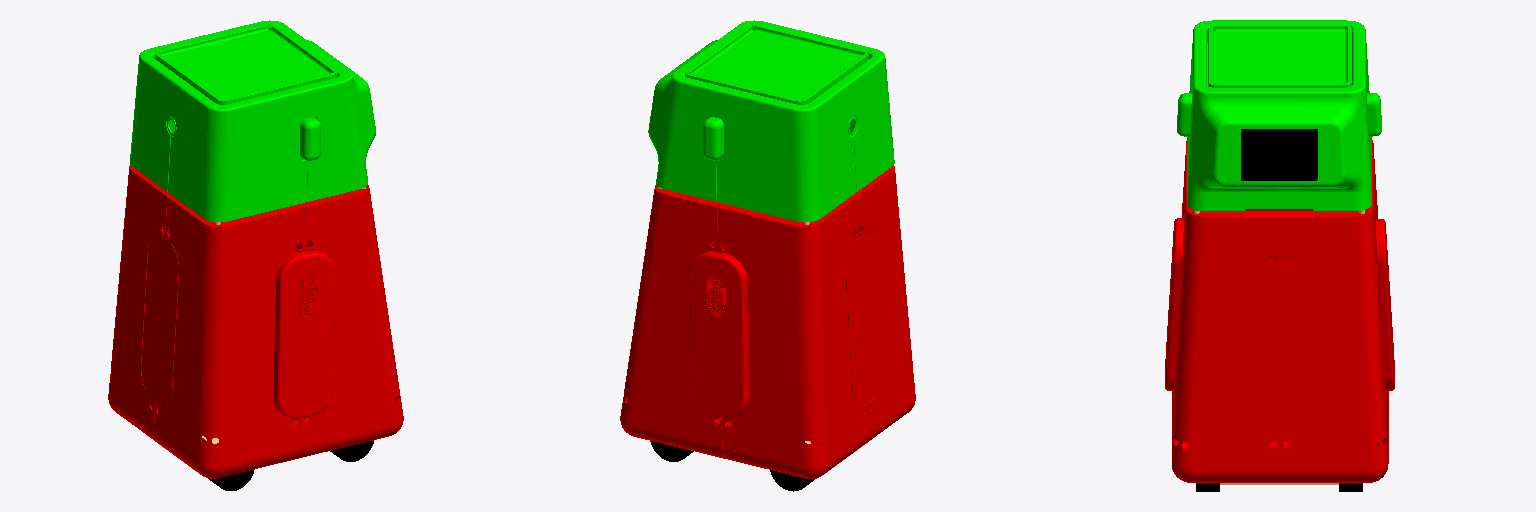
--- What the picture shows (computed from the rendered views, not written in the file) ---
3 views of the same robot in one strip: view 1: azimuth 30°, elevation 25°; view 2: azimuth 150°, elevation 25°; view 3: azimuth 270°, elevation 25° (orthographic).
Model cr2 with 17 links and 16 joints (4 continuous, 12 fixed), rooted at base_link, posed all joints at 0.
Links seen in each view (by area): view 1: body, head, tray, back_cover; view 2: body, head, tray, back_cover; view 3: body, head, tray, monitor.
Link boxes in pixels (x1,y1,x2,y2): body: (108, 165, 403, 478); head: (130, 20, 375, 221); tray: (155, 24, 337, 104); back_cover: (141, 235, 178, 404); body: (620, 165, 915, 478); head: (648, 20, 894, 221); tray: (685, 24, 868, 104); back_cover: (845, 235, 882, 404); body: (1165, 140, 1394, 482); head: (1177, 20, 1381, 210); tray: (1208, 24, 1351, 87); monitor: (1241, 129, 1317, 180).
Bounding box of the posed robot: 0.5122 × 0.4822 × 0.925 m (x, y, z).
4 mesh visuals loaded from 4 distinct referenced files (4 binary STL).

URDF robot description (cr2):
<?xml version="1.0" encoding="utf-8"?>
<!-- =================================================================================== -->
<!-- |    This document was autogenerated by xacro from cr2.urdf.xacro                 | -->
<!-- |    EDITING THIS FILE BY HAND IS NOT RECOMMENDED                                 | -->
<!-- =================================================================================== -->
<robot name="cr2">
  <!--TODO ! make it in normal '.config' file -->
  <!--GLOBAL-->
  <!-- For performance purposes we temporary remove real geometry of wheels and put simple cylinders -->
  <!--/GLOBAL-->
  <!--/MASHES-->
  <!--DEBUG-->
  <!--/DEBUG-->
  <!-- has been measured via Rviz -->
  <!--/BODY-->
  <!-- MECANUM WHEELS PLATFORM -->
  <!-- /MECANUM WHEELS -->
  <!--TODO get better head box, for now using x, y from body-->
  <!-- weight of iPad mini 4 -->
  <!--/HEAD-->
  <!--/PILLARS-->
  <!--SENSORS-->
  <!--ULTRASONIC-->
  <!--/ULTRASONIC-->
  <!--RPLIDAR-->
  <!--/RPLIDAR-->
  <!--/RANGE-->
  <!--/SENSORS-->
  <!--TODO ! make it in normal '.config' file -->
  <!--GLOBAL-->
  <!-- For performance purposes we temporary remove real geometry of wheels and put simple cylinders -->
  <!--/GLOBAL-->
  <!--/MASHES-->
  <!--DEBUG-->
  <!--/DEBUG-->
  <!-- has been measured via Rviz -->
  <!--/BODY-->
  <!-- MECANUM WHEELS PLATFORM -->
  <!-- /MECANUM WHEELS -->
  <!--TODO get better head box, for now using x, y from body-->
  <!-- weight of iPad mini 4 -->
  <!--/HEAD-->
  <!--/PILLARS-->
  <!--SENSORS-->
  <!--ULTRASONIC-->
  <!--/ULTRASONIC-->
  <!--RPLIDAR-->
  <!--/RPLIDAR-->
  <!--/RANGE-->
  <!--/SENSORS-->
  <!--TODO ! make it in normal '.config' file -->
  <!--GLOBAL-->
  <!-- For performance purposes we temporary remove real geometry of wheels and put simple cylinders -->
  <!--/GLOBAL-->
  <!--/MASHES-->
  <!--DEBUG-->
  <!--/DEBUG-->
  <!-- has been measured via Rviz -->
  <!--/BODY-->
  <!-- MECANUM WHEELS PLATFORM -->
  <!-- /MECANUM WHEELS -->
  <!--TODO get better head box, for now using x, y from body-->
  <!-- weight of iPad mini 4 -->
  <!--/HEAD-->
  <!--/PILLARS-->
  <!--SENSORS-->
  <!--ULTRASONIC-->
  <!--/ULTRASONIC-->
  <!--RPLIDAR-->
  <!--/RPLIDAR-->
  <!--/RANGE-->
  <!--/SENSORS-->
  <!--TODO ! make it in normal '.config' file -->
  <!--GLOBAL-->
  <!-- For performance purposes we temporary remove real geometry of wheels and put simple cylinders -->
  <!--/GLOBAL-->
  <!--/MASHES-->
  <!--DEBUG-->
  <!--/DEBUG-->
  <!-- has been measured via Rviz -->
  <!--/BODY-->
  <!-- MECANUM WHEELS PLATFORM -->
  <!-- /MECANUM WHEELS -->
  <!--TODO get better head box, for now using x, y from body-->
  <!-- weight of iPad mini 4 -->
  <!--/HEAD-->
  <!--/PILLARS-->
  <!--SENSORS-->
  <!--ULTRASONIC-->
  <!--/ULTRASONIC-->
  <!--RPLIDAR-->
  <!--/RPLIDAR-->
  <!--/RANGE-->
  <!--/SENSORS-->
  <!--TODO ! make it in normal '.config' file -->
  <!--GLOBAL-->
  <!-- For performance purposes we temporary remove real geometry of wheels and put simple cylinders -->
  <!--/GLOBAL-->
  <!--/MASHES-->
  <!--DEBUG-->
  <!--/DEBUG-->
  <!-- has been measured via Rviz -->
  <!--/BODY-->
  <!-- MECANUM WHEELS PLATFORM -->
  <!-- /MECANUM WHEELS -->
  <!--TODO get better head box, for now using x, y from body-->
  <!-- weight of iPad mini 4 -->
  <!--/HEAD-->
  <!--/PILLARS-->
  <!--SENSORS-->
  <!--ULTRASONIC-->
  <!--/ULTRASONIC-->
  <!--RPLIDAR-->
  <!--/RPLIDAR-->
  <!--/RANGE-->
  <!--/SENSORS-->
  <!--TODO ! make it in normal '.config' file -->
  <!--GLOBAL-->
  <!-- For performance purposes we temporary remove real geometry of wheels and put simple cylinders -->
  <!--/GLOBAL-->
  <!--/MASHES-->
  <!--DEBUG-->
  <!--/DEBUG-->
  <!-- has been measured via Rviz -->
  <!--/BODY-->
  <!-- MECANUM WHEELS PLATFORM -->
  <!-- /MECANUM WHEELS -->
  <!--TODO get better head box, for now using x, y from body-->
  <!-- weight of iPad mini 4 -->
  <!--/HEAD-->
  <!--/PILLARS-->
  <!--SENSORS-->
  <!--ULTRASONIC-->
  <!--/ULTRASONIC-->
  <!--RPLIDAR-->
  <!--/RPLIDAR-->
  <!--/RANGE-->
  <!--/SENSORS-->
  <!--TODO ! make it in normal '.config' file -->
  <!--GLOBAL-->
  <!-- For performance purposes we temporary remove real geometry of wheels and put simple cylinders -->
  <!--/GLOBAL-->
  <!--/MASHES-->
  <!--DEBUG-->
  <!--/DEBUG-->
  <!-- has been measured via Rviz -->
  <!--/BODY-->
  <!-- MECANUM WHEELS PLATFORM -->
  <!-- /MECANUM WHEELS -->
  <!--TODO get better head box, for now using x, y from body-->
  <!-- weight of iPad mini 4 -->
  <!--/HEAD-->
  <!--/PILLARS-->
  <!--SENSORS-->
  <!--ULTRASONIC-->
  <!--/ULTRASONIC-->
  <!--RPLIDAR-->
  <!--/RPLIDAR-->
  <!--/RANGE-->
  <!--/SENSORS-->
  <!--TODO ! make it in normal '.config' file -->
  <!--GLOBAL-->
  <!-- For performance purposes we temporary remove real geometry of wheels and put simple cylinders -->
  <!--/GLOBAL-->
  <!--/MASHES-->
  <!--DEBUG-->
  <!--/DEBUG-->
  <!-- has been measured via Rviz -->
  <!--/BODY-->
  <!-- MECANUM WHEELS PLATFORM -->
  <!-- /MECANUM WHEELS -->
  <!--TODO get better head box, for now using x, y from body-->
  <!-- weight of iPad mini 4 -->
  <!--/HEAD-->
  <!--/PILLARS-->
  <!--SENSORS-->
  <!--ULTRASONIC-->
  <!--/ULTRASONIC-->
  <!--RPLIDAR-->
  <!--/RPLIDAR-->
  <!--/RANGE-->
  <!--/SENSORS-->
  <!--TODO ! make it in normal '.config' file -->
  <!--GLOBAL-->
  <!-- For performance purposes we temporary remove real geometry of wheels and put simple cylinders -->
  <!--/GLOBAL-->
  <!--/MASHES-->
  <!--DEBUG-->
  <!--/DEBUG-->
  <!-- has been measured via Rviz -->
  <!--/BODY-->
  <!-- MECANUM WHEELS PLATFORM -->
  <!-- /MECANUM WHEELS -->
  <!--TODO get better head box, for now using x, y from body-->
  <!-- weight of iPad mini 4 -->
  <!--/HEAD-->
  <!--/PILLARS-->
  <!--SENSORS-->
  <!--ULTRASONIC-->
  <!--/ULTRASONIC-->
  <!--RPLIDAR-->
  <!--/RPLIDAR-->
  <!--/RANGE-->
  <!--/SENSORS-->
  <!--TODO ! make it in normal '.config' file -->
  <!--GLOBAL-->
  <!-- For performance purposes we temporary remove real geometry of wheels and put simple cylinders -->
  <!--/GLOBAL-->
  <!--/MASHES-->
  <!--DEBUG-->
  <!--/DEBUG-->
  <!-- has been measured via Rviz -->
  <!--/BODY-->
  <!-- MECANUM WHEELS PLATFORM -->
  <!-- /MECANUM WHEELS -->
  <!--TODO get better head box, for now using x, y from body-->
  <!-- weight of iPad mini 4 -->
  <!--/HEAD-->
  <!--/PILLARS-->
  <!--SENSORS-->
  <!--ULTRASONIC-->
  <!--/ULTRASONIC-->
  <!--RPLIDAR-->
  <!--/RPLIDAR-->
  <!--/RANGE-->
  <!--/SENSORS-->
  <!--TODO configure it properly, not by those magic-->
  <!--TODO ! make it in normal '.config' file -->
  <!--GLOBAL-->
  <!-- For performance purposes we temporary remove real geometry of wheels and put simple cylinders -->
  <!--/GLOBAL-->
  <!--/MASHES-->
  <!--DEBUG-->
  <!--/DEBUG-->
  <!-- has been measured via Rviz -->
  <!--/BODY-->
  <!-- MECANUM WHEELS PLATFORM -->
  <!-- /MECANUM WHEELS -->
  <!--TODO get better head box, for now using x, y from body-->
  <!-- weight of iPad mini 4 -->
  <!--/HEAD-->
  <!--/PILLARS-->
  <!--SENSORS-->
  <!--ULTRASONIC-->
  <!--/ULTRASONIC-->
  <!--RPLIDAR-->
  <!--/RPLIDAR-->
  <!--/RANGE-->
  <!--/SENSORS-->
  <!--TODO ! make it in normal '.config' file -->
  <!--GLOBAL-->
  <!-- For performance purposes we temporary remove real geometry of wheels and put simple cylinders -->
  <!--/GLOBAL-->
  <!--/MASHES-->
  <!--DEBUG-->
  <!--/DEBUG-->
  <!-- has been measured via Rviz -->
  <!--/BODY-->
  <!-- MECANUM WHEELS PLATFORM -->
  <!-- /MECANUM WHEELS -->
  <!--TODO get better head box, for now using x, y from body-->
  <!-- weight of iPad mini 4 -->
  <!--/HEAD-->
  <!--/PILLARS-->
  <!--SENSORS-->
  <!--ULTRASONIC-->
  <!--/ULTRASONIC-->
  <!--RPLIDAR-->
  <!--/RPLIDAR-->
  <!--/RANGE-->
  <!--/SENSORS-->
  <link name="base_link"/>
  <!--it is intended to be empty-->
  <joint name="base_link_joint" type="fixed">
    <origin rpy="0 0 0" xyz="0 0 0"/>
    <parent link="base_link"/>
    <child link="base_platform"/>
  </joint>
  <link name="base_platform">
    <visual>
      <origin rpy="1.57079632679 0 1.57079632679" xyz="0 0 0"/>
      <geometry>
        <box size="0.25 0.05 0.38"/>
      </geometry>
      <material name="navajo_white">
        <color rgba="1.0 0.87 0.68 1.0"/>
      </material>
      <!--TODO change it (not crucial), because it is being extracted to definition inplace-->
    </visual>
    <collision>
      <origin rpy="1.57079632679 0 1.57079632679" xyz="0 0 0"/>
      <geometry>
        <box size="0.25 0.05 0.38"/>
      </geometry>
    </collision>
    <inertial>
      <origin rpy="1.57079632679 0 1.57079632679" xyz="0 0 0"/>
      <mass value="10"/>
      <inertia ixx="0.122416666667" ixy="0.0" ixz="0.0" iyy="0.172416666667" iyz="0.0" izz="0.0541666666667"/>
    </inertial>
  </link>
  <link name="rear_left_wheel_link">
    <visual>
      <origin rpy="1.57075 0 0" xyz="0 0 0"/>
      <geometry>
        <cylinder length="0.05" radius="0.05"/>
      </geometry>
      <material name="black"/>
    </visual>
    <collision>
      <origin rpy="1.57075 0 0" xyz="0 0 0"/>
      <geometry>
        <cylinder length="0.05" radius="0.05"/>
      </geometry>
    </collision>
    <inertial>
      <origin rpy="0 0 0" xyz="0 0 0"/>
      <mass value="2.3"/>
      <inertia ixx="3.3212e-3" ixy="0" ixz="0" iyy="6.6424e-3" iyz="0" izz="3.3212e-3"/>
    </inertial>
  </link>
  <joint name="rear_left_wheel" type="continuous">
    <parent link="base_platform"/>
    <child link="rear_left_wheel_link"/>
    <origin rpy="0 0 0" xyz="-0.14                      0.15                       0"/>
    <axis xyz="0 1 0"/>
  </joint>
  <transmission name="rear_wheel_trans">
    <type>transmission_interface/SimpleTransmission</type>
    <joint name="rear_left_wheel">
      <hardwareInterface>hardware_interface/VelocityJointInterface</hardwareInterface>
    </joint>
    <actuator name="rear_left_actuator">
      <mechanicalReduction>60</mechanicalReduction>
      <motorTorqueConstant>4.4</motorTorqueConstant>
    </actuator>
  </transmission>
  <link name="rear_right_wheel_link">
    <visual>
      <origin rpy="1.57075 0 0" xyz="0 0 0"/>
      <geometry>
        <cylinder length="0.05" radius="0.05"/>
      </geometry>
      <material name="black"/>
    </visual>
    <collision>
      <origin rpy="1.57075 0 0" xyz="0 0 0"/>
      <geometry>
        <cylinder length="0.05" radius="0.05"/>
      </geometry>
    </collision>
    <inertial>
      <origin rpy="0 0 0" xyz="0 0 0"/>
      <mass value="2.3"/>
      <inertia ixx="3.3212e-3" ixy="0" ixz="0" iyy="6.6424e-3" iyz="0" izz="3.3212e-3"/>
    </inertial>
  </link>
  <joint name="rear_right_wheel" type="continuous">
    <parent link="base_platform"/>
    <child link="rear_right_wheel_link"/>
    <origin rpy="0 0 0" xyz="-0.14                      -0.15                      0"/>
    <axis xyz="0 1 0"/>
  </joint>
  <transmission name="rear_wheel_trans">
    <type>transmission_interface/SimpleTransmission</type>
    <joint name="rear_right_wheel">
      <hardwareInterface>hardware_interface/VelocityJointInterface</hardwareInterface>
    </joint>
    <actuator name="rear_right_actuator">
      <mechanicalReduction>60</mechanicalReduction>
      <motorTorqueConstant>4.4</motorTorqueConstant>
    </actuator>
  </transmission>
  <link name="front_left_wheel_link">
    <visual>
      <origin rpy="1.57075 0 0" xyz="0 0 0"/>
      <geometry>
        <cylinder length="0.05" radius="0.05"/>
      </geometry>
      <material name="black"/>
    </visual>
    <collision>
      <origin rpy="1.57075 0 0" xyz="0 0 0"/>
      <geometry>
        <cylinder length="0.05" radius="0.05"/>
      </geometry>
    </collision>
    <inertial>
      <origin rpy="0 0 0" xyz="0 0 0"/>
      <mass value="2.3"/>
      <inertia ixx="3.3212e-3" ixy="0" ixz="0" iyy="6.6424e-3" iyz="0" izz="3.3212e-3"/>
    </inertial>
  </link>
  <joint name="front_left_wheel" type="continuous">
    <parent link="base_platform"/>
    <child link="front_left_wheel_link"/>
    <origin rpy="0 0 0" xyz="0.16                      0.15                       0"/>
    <axis xyz="0 1 0"/>
  </joint>
  <transmission name="front_wheel_trans">
    <type>transmission_interface/SimpleTransmission</type>
    <joint name="front_left_wheel">
      <hardwareInterface>hardware_interface/VelocityJointInterface</hardwareInterface>
    </joint>
    <actuator name="front_left_actuator">
      <mechanicalReduction>60</mechanicalReduction>
      <motorTorqueConstant>4.4</motorTorqueConstant>
    </actuator>
  </transmission>
  <link name="front_right_wheel_link">
    <visual>
      <origin rpy="1.57075 0 0" xyz="0 0 0"/>
      <geometry>
        <cylinder length="0.05" radius="0.05"/>
      </geometry>
      <material name="black"/>
    </visual>
    <collision>
      <origin rpy="1.57075 0 0" xyz="0 0 0"/>
      <geometry>
        <cylinder length="0.05" radius="0.05"/>
      </geometry>
    </collision>
    <inertial>
      <origin rpy="0 0 0" xyz="0 0 0"/>
      <mass value="2.3"/>
      <inertia ixx="3.3212e-3" ixy="0" ixz="0" iyy="6.6424e-3" iyz="0" izz="3.3212e-3"/>
    </inertial>
  </link>
  <joint name="front_right_wheel" type="continuous">
    <parent link="base_platform"/>
    <child link="front_right_wheel_link"/>
    <origin rpy="0 0 0" xyz="0.16                      -0.15                      0"/>
    <axis xyz="0 1 0"/>
  </joint>
  <transmission name="front_wheel_trans">
    <type>transmission_interface/SimpleTransmission</type>
    <joint name="front_right_wheel">
      <hardwareInterface>hardware_interface/VelocityJointInterface</hardwareInterface>
    </joint>
    <actuator name="front_right_actuator">
      <mechanicalReduction>60</mechanicalReduction>
      <motorTorqueConstant>4.4</motorTorqueConstant>
    </actuator>
  </transmission>
  <joint name="body_link_joint" type="fixed">
    <parent link="base_platform"/>
    <child link="body"/>
  </joint>
  <link name="body">
    <visual>
      <geometry>
        <mesh filename="package://cr2_description/meshes/body.stl" scale="0.001 0.001 0.001"/>
      </geometry>
      <material name="red">
        <color rgba="1.0 0.0 0.0 1.0"/>
      </material>
      <origin rpy="1.57079632679 0 3.14159265359" xyz="0.27                      -0.24                      0.0"/>
      <!--rpy="${pi/2} 0 ${pi}"/>-->
    </visual>
    <collision>
      <geometry>
        <box size="0.486 0.6 0.525"/>
      </geometry>
      <origin rpy="1.57079632679 0 1.57079632679" xyz="0.02                      0                      0.3"/>
      <!--rpy="${pi/2} 0 ${pi}"/>-->
    </collision>
    <inertial>
      <origin rpy="1.57079632679 0 1.57079632679" xyz="0.02                      0                      0.3"/>
      <mass value="3"/>
      <inertia ixx="0.15890625" ixy="0.0" ixz="0.0" iyy="0.12795525" iyz="0.0" izz="0.149049"/>
    </inertial>
  </link>
  <link name="back_cover">
    <visual>
      <origin rpy="0                      1.57079632679                      0.06092665" xyz="0.515                              0                              0.469"/>
      <geometry>
        <mesh filename="package://cr2_description/meshes/back_cover.stl" scale="0.001 0.001 0.001"/>
      </geometry>
      <material name="red">
        <color rgba="1.0 0.0 0.0 1.0"/>
      </material>
    </visual>
    <inertial>
      <origin rpy="0 0 0" xyz="0 0 0"/>
      <mass value="0"/>
      <inertia ixx="0.0" ixy="0.0" ixz="0.0" iyy="0.0" iyz="0.0" izz="0.0"/>
    </inertial>
  </link>
  <joint name="back_cover_joint" type="fixed">
    <origin rpy="1.57079632679 0 3.14159265359" xyz="0.27                      -0.24                      0.0"/>
    <!--rpy="${pi/2} 0 ${pi}"/>-->
    <parent link="body"/>
    <child link="back_cover"/>
  </joint>
  <joint name="head_link_joint" type="fixed">
    <origin rpy="0                          0                          0 " xyz="0                          0                          0"/>
    <parent link="body"/>
    <child link="head"/>
  </joint>
  <link name="head">
    <visual>
      <origin rpy="1.57079632679 0 3.14159265359" xyz="0.24                            -0.215                            0.02"/>
      <geometry>
        <mesh filename="package://cr2_description/meshes/head.stl" scale="0.001 0.001 0.001"/>
      </geometry>
      <material name="green">
        <color rgba="0.0 1.0 0.0 1.0"/>
      </material>
    </visual>
    <collision>
      <origin rpy="1.57079632679 0 1.57079632679" xyz="0                              0                              0.75"/>
      <geometry>
        <box size="0.486 0.26 0.525"/>
      </geometry>
    </collision>
    <inertial>
      <origin rpy="1.57079632679 0 1.57079632679" xyz="0                              0                              0.75"/>
      <mass value="1"/>
      <inertia ixx="0.0286020833333" ixy="0.0" ixz="0.0" iyy="0.04265175" iyz="0.0" izz="0.0253163333333"/>
    </inertial>
  </link>
  <link name="tray">
    <visual>
      <origin rpy="0 0 0" xyz="0.2325                      0.105                      0.218"/>
      <geometry>
        <mesh filename="package://cr2_description/meshes/tray.stl" scale="0.001 0.001 0.001"/>
      </geometry>
      <material name="green">
        <color rgba="0.0 1.0 0.0 1.0"/>
      </material>
    </visual>
    <inertial>
      <origin rpy="0 0 0" xyz="0 0 0"/>
      <mass value="0.1"/>
      <inertia ixx="0.00168750833333" ixy="0.0" ixz="0.0" iyy="0.00336001666667" iyz="0.0" izz="0.00168750833333"/>
    </inertial>
  </link>
  <joint name="tray_joint" type="fixed">
    <origin rpy="1.57079632679 0 1.57079632679" xyz="0                              0                              0.75"/>
    <parent link="head"/>
    <child link="tray"/>
  </joint>
  <link name="monitor">
    <visual>
      <origin rpy="1.57079632679                      -0.11307335                      -1.57079632679" xyz="0                      0.01                      0.228"/>
      <geometry>
        <box size="0.13 0.001 0.16"/>
      </geometry>
      <material name="black">
        <color rgba="0.0 0.0 0.0 1.0"/>
      </material>
    </visual>
    <inertial>
      <origin rpy="0 0 0" xyz="0 0 0"/>
      <mass value="0.295"/>
      <inertia ixx="0.000629357916667" ixy="0.0" ixz="0.0" iyy="0.00104479166667" iyz="0.0" izz="0.000415482916667"/>
    </inertial>
  </link>
  <joint name="monitor_joint" type="fixed">
    <origin rpy="1.57079632679 0 1.57079632679" xyz="0                              0                              0.75"/>
    <parent link="head"/>
    <child link="monitor"/>
  </joint>
  <link name="pillar_FRONT_RIGHT_link">
    <visual>
      <geometry>
        <cylinder length="0.02" radius="0.006"/>
      </geometry>
      <material name="navajo_white">
        <color rgba="1.0 0.87 0.68 1.0"/>
      </material>
    </visual>
    <collision>
      <geometry>
        <cylinder length="0.02" radius="0.006"/>
      </geometry>
    </collision>
    <inertial>
      <mass value="0.001"/>
      <origin xyz="0 0 0"/>
      <inertia ixx="4.23333333333e-08" ixy="0.0" ixz="0.0" iyy="4.23333333333e-08" iyz="0.0" izz="1.8e-08"/>
    </inertial>
  </link>
  <joint name="pillar_FRONT_RIGHT_joint" type="fixed">
    <origin rpy="0 0 0" xyz="0.1825 -0.173 0.6"/>
    <parent link="body"/>
    <child link="pillar_FRONT_RIGHT_link"/>
  </joint>
  <link name="pillar_FRONT_LEFT_link">
    <visual>
      <geometry>
        <cylinder length="0.02" radius="0.006"/>
      </geometry>
      <material name="navajo_white">
        <color rgba="1.0 0.87 0.68 1.0"/>
      </material>
    </visual>
    <collision>
      <geometry>
        <cylinder length="0.02" radius="0.006"/>
      </geometry>
    </collision>
    <inertial>
      <mass value="0.001"/>
      <origin xyz="0 0 0"/>
      <inertia ixx="4.23333333333e-08" ixy="0.0" ixz="0.0" iyy="4.23333333333e-08" iyz="0.0" izz="1.8e-08"/>
    </inertial>
  </link>
  <joint name="pillar_FRONT_LEFT_joint" type="fixed">
    <origin rpy="0 0 0" xyz="0.1825 0.173 0.6"/>
    <parent link="body"/>
    <child link="pillar_FRONT_LEFT_link"/>
  </joint>
  <link name="pillar_REAR_RIGHT_link">
    <visual>
      <geometry>
        <cylinder length="0.02" radius="0.006"/>
      </geometry>
      <material name="navajo_white">
        <color rgba="1.0 0.87 0.68 1.0"/>
      </material>
    </visual>
    <collision>
      <geometry>
        <cylinder length="0.02" radius="0.006"/>
      </geometry>
    </collision>
    <inertial>
      <mass value="0.001"/>
      <origin xyz="0 0 0"/>
      <inertia ixx="4.23333333333e-08" ixy="0.0" ixz="0.0" iyy="4.23333333333e-08" iyz="0.0" izz="1.8e-08"/>
    </inertial>
  </link>
  <joint name="pillar_REAR_RIGHT_joint" type="fixed">
    <origin rpy="0 0 0" xyz="-0.1825 -0.173 0.6"/>
    <parent link="body"/>
    <child link="pillar_REAR_RIGHT_link"/>
  </joint>
  <link name="pillar_REAR_LEFT_link">
    <visual>
      <geometry>
        <cylinder length="0.02" radius="0.006"/>
      </geometry>
      <material name="navajo_white">
        <color rgba="1.0 0.87 0.68 1.0"/>
      </material>
    </visual>
    <collision>
      <geometry>
        <cylinder length="0.02" radius="0.006"/>
      </geometry>
    </collision>
    <inertial>
      <mass value="0.001"/>
      <origin xyz="0 0 0"/>
      <inertia ixx="4.23333333333e-08" ixy="0.0" ixz="0.0" iyy="4.23333333333e-08" iyz="0.0" izz="1.8e-08"/>
    </inertial>
  </link>
  <joint name="pillar_REAR_LEFT_joint" type="fixed">
    <origin rpy="0 0 0" xyz="-0.1825 0.173 0.6"/>
    <parent link="body"/>
    <child link="pillar_REAR_LEFT_link"/>
  </joint>
  <link name="laser_link">
    <visual>
      <geometry>
        <cylinder length="0.041" radius="0.038"/>
      </geometry>
      <material name="navajo_white">
        <color rgba="1.0 0.87 0.68 1.0"/>
      </material>
    </visual>
    <collision>
      <geometry>
        <cylinder length="0.041" radius="0.038"/>
      </geometry>
    </collision>
    <inertial>
      <mass value="0.019"/>
      <origin xyz="0 0 0"/>
      <inertia ixx="9.52058333333e-06" ixy="0.0" ixz="0.0" iyy="9.52058333333e-06" iyz="0.0" izz="1.3718e-05"/>
    </inertial>
  </link>
  <joint name="laser_base_joint" type="fixed">
    <origin rpy="0 0 0" xyz="0.0                      0.0                      0.59"/>
    <parent link="head"/>
    <child link="laser_link"/>
  </joint>
  <link name="laser_oscillator">
    <visual>
      <geometry>
        <cylinder length="0.001" radius="0.038"/>
      </geometry>
      <material name="blue">
        <color rgba="0.0 0.0 1.0 1.0"/>
      </material>
    </visual>
    <collision>
      <geometry>
        <cylinder length="0.001" radius="0.038"/>
      </geometry>
    </collision>
    <inertial>
      <mass value="0.001"/>
      <origin xyz="0 0 0"/>
      <inertia ixx="3.61083333333e-07" ixy="0.0" ixz="0.0" iyy="3.61083333333e-07" iyz="0.0" izz="7.22e-07"/>
    </inertial>
  </link>
  <joint name="laser_oscillator_joint" type="fixed">
    <origin rpy="0 0 3.14159265359" xyz="0 0 0.0155"/>
    <parent link="laser_link"/>
    <child link="laser_oscillator"/>
  </joint>
  <gazebo reference="laser_oscillator">
    <material>Gazebo/Green</material>
    <sensor name="laser" type="ray">
      <pose>0 0 0 0 0 0</pose>
      <visualize>false</visualize>
      <update_rate>40</update_rate>
      <ray>
        <scan>
          <horizontal>
            <!--TODO: figureout exact samples for RPLIDAR A2-->
            <samples>1081</samples>
            <resolution>1</resolution>
            <min_angle>0</min_angle>
            <max_angle>6.283185</max_angle>
          </horizontal>
        </scan>
        <range>
          <!--TODO: figureout exact min/max for RPLIDAR A2-->
          <min>0.3</min>
          <max>5.0</max>
          <!--for this dist is configured navigator-->
          <resolution>0.01</resolution>
        </range>
        <noise>
          <type>gaussian</type>
          <mean>0.0</mean>
          <stddev>0.01</stddev>
        </noise>
      </ray>
      <plugin filename="libgazebo_ros_laser.so" name="gazebo_ros_rplidar_controller">
        <topicName>front/scan</topicName>
        <frameName>laser_oscillator</frameName>
        <!--<frameName>front_laser</frameName>-->
      </plugin>
    </sensor>
  </gazebo>
  <!---->
  <!---->
  <!---->
  <!--ULTRASONIC-->
  <!--<xacro:ultrasonic parent_link_name="body" position="FRONT_TOP"              roll="0"              x="0.1"   y="${ultrasonic_top_margin}            " z="0.361"/>-->
  <!--<xacro:ultrasonic parent_link_name="body" position="FRONT_BOTTOM"           roll="0"              x="0.025" y="${ultrasonic_bottom_margin}         " z="0.361"/>-->
  <!--<xacro:ultrasonic parent_link_name="body" position="FRONT_BOTTOM_RIGHT"     roll="${pi + pi/1.3}" x="0.033" y="${ultrasonic_bottom_margin - 0.003} " z="0.054"/>-->
  <!--<xacro:ultrasonic parent_link_name="body" position="FRONT_BOTTOM_LEFT"      roll="${pi/4}"        x="0.035" y="${ultrasonic_bottom_margin}         " z="0.67" />-->
  <!--<xacro:ultrasonic parent_link_name="body" position="RIGHT_TOP"              roll="${pi + pi/2}"   x="0.374" y="${ultrasonic_top_margin}            " z="0.075"/>-->
  <!--<xacro:ultrasonic parent_link_name="body" position="RIGHT_BOTTOM"           roll="${pi + pi/2}"   x="0.407" y="${ultrasonic_bottom_margin  - 0.002}" z="0.035"/>-->
  <!--<xacro:ultrasonic parent_link_name="body" position="RIGHT_BOTTOM_SIDE"      roll="${pi/1.3}"      x="0.735" y="${ultrasonic_bottom_margin - 0.002} " z="0.675"/>-->
  <!--<xacro:ultrasonic parent_link_name="body" position="SIDE_TOP"               roll="${pi}"          x="0.71"  y="${ultrasonic_top_margin + 0.012}    " z="0.36" />-->
  <!--<xacro:ultrasonic parent_link_name="body" position="SIDE_BOTTOM"            roll="${pi}"          x="0.75"  y="${ultrasonic_bottom_margin}         " z="0.363"/>-->
  <!--<xacro:ultrasonic parent_link_name="body" position="SIDE_BOTTOM_LEFT"       roll="${pi + pi/4}"   x="0.732" y="${ultrasonic_bottom_margin + 0.006} " z="0.055"/>-->
  <!--<xacro:ultrasonic parent_link_name="body" position="LEFT_TOP"               roll="${pi/2}"        x="0.372" y="${ultrasonic_top_margin}            " z="0.65" />-->
  <!--<xacro:ultrasonic parent_link_name="body" position="LEFT_BOTTOM"            roll="${pi/2}"        x="0.407" y="${ultrasonic_bottom_margin}         " z="0.685"/>-->
  <!---->
  <!---->
  <!---->
  <!--RANGE SENSOR-->
  <!--<xacro:range_sensor parent_link_name="head" position="FRONT_FIRST"          roll="0"              x="0.13"  y="${range_sensor_margin}         " z="0.5"/>-->
  <!--<xacro:range_sensor parent_link_name="head" position="FRONT_SECOND"         roll="0"              x="0.13"  y="${range_sensor_margin}         " z="0.325"/>-->
  <!--<xacro:range_sensor parent_link_name="head" position="FRONT_THIRD"          roll="0"              x="0.13"  y="${range_sensor_margin}         " z="0.15"/>-->
  <!--<xacro:range_sensor parent_link_name="head" position="RIGHT_FIRST"          roll="${pi/2}"        x="0.2"   y="${range_sensor_margin}         " z="0.075"/>-->
  <!--<xacro:range_sensor parent_link_name="head" position="RIGHT_SECOND"         roll="${pi/2}"        x="0.38"  y="${range_sensor_margin}         " z="0.075"/>-->
  <!--<xacro:range_sensor parent_link_name="head" position="RIGHT_THIRD"          roll="${pi/2}"        x="0.55"  y="${range_sensor_margin}         " z="0.075"/>-->
  <!--<xacro:range_sensor parent_link_name="head" position="SIDE_FIRST"           roll="0"              x="0.63"  y="${range_sensor_margin}         " z="0.5"/>-->
  <!--<xacro:range_sensor parent_link_name="head" position="SIDE_SECOND"          roll="0"              x="0.63"  y="${range_sensor_margin}         " z="0.325"/>-->
  <!--<xacro:range_sensor parent_link_name="head" position="SIDE_THIRD"           roll="0"              x="0.63"  y="${range_sensor_margin}         " z="0.15"/>-->
  <!--<xacro:range_sensor parent_link_name="head" position="LEFT_FIRST"           roll="${pi/2}"        x="0.2"   y="${range_sensor_margin}         " z="0.572"/>-->
  <!--<xacro:range_sensor parent_link_name="head" position="LEFT_SECOND"          roll="${pi/2}"        x="0.36"  y="${range_sensor_margin}         " z="0.572"/>-->
  <!--<xacro:range_sensor parent_link_name="head" position="LEFT_THIRD"           roll="${pi/2}"        x="0.55"  y="${range_sensor_margin}         " z="0.572"/>-->
  <!---->
  <!---->
  <gazebo>
    <plugin filename="libgazebo_ros_control.so" name="gazebo_ros_control">
      <robotNamespace>/</robotNamespace>
      <legacyModeNS>true</legacyModeNS>
    </plugin>
    <plugin filename="libmove_object_plugin.so" name="sample"/>
    <plugin filename="./libridgeback_ros_force_based_move.so" name="ridgeback_ros_force_based_move">
      <robotNamespace>/</robotNamespace>
      <commandTopic>cmd_vel</commandTopic>
      <odometryTopic>odom</odometryTopic>
      <odometryFrame>odom</odometryFrame>
      <odometryRate>25.0</odometryRate>
      <robotBaseFrame>base_link</robotBaseFrame>
      <cmdVelTimeOut>0.25</cmdVelTimeOut>
      <!-- Don't publish a transform: the controller does it. -->
      <publishOdometryTf>0.0</publishOdometryTf>
      <yaw_velocity_p_gain>500.0</yaw_velocity_p_gain>
      <x_velocity_p_gain>10000.0</x_velocity_p_gain>
      <y_velocity_p_gain>10000.0</y_velocity_p_gain>
    </plugin>
    <!--<plugin name="imu_controller" filename="libhector_gazebo_ros_imu.so">-->
    <!--<robotNamespace>/</robotNamespace>-->
    <!--<updateRate>50.0</updateRate>-->
    <!--<bodyName>imu_link</bodyName>-->
    <!--<topicName>imu/data</topicName>-->
    <!--<accelDrift>0.005 0.005 0.005</accelDrift>-->
    <!--<accelGaussianNoise>0.005 0.005 0.005</accelGaussianNoise>-->
    <!--<rateDrift>0.00005 0.00005 0.00005</rateDrift>-->
    <!--<rateGaussianNoise>0.00005 0.00005 0.00005</rateGaussianNoise>-->
    <!--<headingDrift>0.005</headingDrift>-->
    <!--<headingGaussianNoise>0.005</headingGaussianNoise>-->
    <!--</plugin>-->
    <!--TODO ALLSO BAD EGG - need more efforts-->
    <!--<plugin name="gazebo_ros_joint_state_publisher" filename="libgazebo_ros_joint_state_publisher.so">-->
    <!--<jointName>wheel_FL_link</jointName>-->
    <!--<robotNamespace>/</robotNamespace>-->
    <!--<updateRate>50.0</updateRate>-->
    <!--</plugin>-->
  </gazebo>
  <!-- ///////////////////////-->
  <!-- Mechanum wheels chassis-->
  <!-- ///////////////////////-->
  <gazebo reference="base_link">
    <!--<mu1 value="1.0"/>-->
    <!--<mu2 value="1.0"/>-->
    <!--<kp value="10000000.0"/>-->
    <!--<kd value="1.0"/>-->
    <material>Gazebo/White</material>
    <gravity>true</gravity>
  </gazebo>
  <!--<gazebo reference="FL_wheel_link">-->
  <!--<mu1 value="0.0"/>-->
  <!--<mu2 value="0.0"/>-->
  <!--<kp value="10000000.0"/>-->
  <!--<kd value="1.0"/>-->
  <!--<material>Gazebo/Blue</material>-->
  <!--</gazebo>-->
  <!--<gazebo reference="FR_wheel_link">-->
  <!--<mu1 value="0.0"/>-->
  <!--<mu2 value="0.0"/>-->
  <!--<kp value="10000000.0"/>-->
  <!--<kd value="1.0"/>-->
  <!--<material>Gazebo/Blue</material>-->
  <!--</gazebo>-->
  <!--<gazebo reference="RL_wheel_link">-->
  <!--<mu1 value="0.0"/>-->
  <!--<mu2 value="0.0"/>-->
  <!--<kp value="10000000.0"/>-->
  <!--<kd value="1.0"/>-->
  <!--<material>Gazebo/Blue</material>-->
  <!--</gazebo>-->
  <!--<gazebo reference="RR_wheel_link">-->
  <!--<mu1 value="0.0"/>-->
  <!--<mu2 value="0.0"/>-->
  <!--<kp value="10000000.0"/>-->
  <!--<kd value="1.0"/>-->
  <!--<material>Gazebo/Blue</material>-->
  <!--</gazebo>-->
  <gazebo reference="rear_left_wheel_link">
    <mu1 value="0.0"/>
    <mu2 value="0.0"/>
    <kp value="10000000.0"/>
    <kd value="1.0"/>
    <material>Gazebo/Blue</material>
  </gazebo>
  <gazebo reference="rear_right_wheel_link">
    <mu1 value="0.0"/>
    <mu2 value="0.0"/>
    <kp value="10000000.0"/>
    <kd value="1.0"/>
    <material>Gazebo/Blue</material>
  </gazebo>
  <gazebo reference="front_left_wheel_link">
    <mu1 value="0.0"/>
    <mu2 value="0.0"/>
    <kp value="10000000.0"/>
    <kd value="1.0"/>
    <material>Gazebo/Blue</material>
  </gazebo>
  <gazebo reference="front_right_wheel_link">
    <mu1 value="0.0"/>
    <mu2 value="0.0"/>
    <kp value="10000000.0"/>
    <kd value="1.0"/>
    <material>Gazebo/Blue</material>
  </gazebo>
  <gazebo reference="motor_holder_base_RL_joint">
    <mu1 value="1.0"/>
    <mu2 value="1.0"/>
    <kp value="10000000.0"/>
    <kd value="1.0"/>
    <material>Gazebo/Red</material>
  </gazebo>
  <gazebo reference="motor_holder_RL">
    <mu1 value="1.0"/>
    <mu2 value="1.0"/>
    <kp value="10000000.0"/>
    <kd value="1.0"/>
    <material>Gazebo/Red</material>
  </gazebo>
  <gazebo reference="wheel_motor_RL_joint">
    <mu1 value="1.0"/>
    <mu2 value="1.0"/>
    <kp value="10000000.0"/>
    <kd value="1.0"/>
    <material>Gazebo/Red</material>
  </gazebo>
  <!--<gazebo reference="motor_holder_base_RL_joint">-->
  <!--<mu1 value="1.0"/>-->
  <!--<mu2 value="1.0"/>-->
  <!--<kp value="10000000.0"/>-->
  <!--<kd value="1.0"/>-->
  <!--<material>Gazebo/Red</material>-->
  <!--</gazebo>-->
  <!--<gazebo reference="motor_RR_holder">-->
  <!--<mu1 value="1.0"/>-->
  <!--<mu2 value="1.0"/>-->
  <!--<kp value="10000000.0"/>-->
  <!--<kd value="1.0"/>-->
  <!--<material>Gazebo/Red</material>-->
  <!--</gazebo>-->
  <!--<gazebo reference="motor_RR_holder">-->
  <!--<mu1 value="1.0"/>-->
  <!--<mu2 value="1.0"/>-->
  <!--<kp value="10000000.0"/>-->
  <!--<kd value="1.0"/>-->
  <!--<material>Gazebo/Red</material>-->
  <!--</gazebo>-->
  <!--<gazebo reference="motor_RR_holder">-->
  <!--<mu1 value="1.0"/>-->
  <!--<mu2 value="1.0"/>-->
  <!--<kp value="10000000.0"/>-->
  <!--<kd value="1.0"/>-->
  <!--<material>Gazebo/Red</material>-->
  <!--</gazebo>-->
  <!--<gazebo reference="motor_FL_holder">-->
  <!--<mu1 value="1.0"/>-->
  <!--<mu2 value="1.0"/>-->
  <!--<kp value="10000000.0"/>-->
  <!--<kd value="1.0"/>-->
  <!--<material>Gazebo/Red</material>-->
  <!--</gazebo>-->
  <!--<gazebo reference="motor_RL_holder">-->
  <!--<mu1 value="1.0"/>-->
  <!--<mu2 value="1.0"/>-->
  <!--<kp value="10000000.0"/>-->
  <!--<kd value="1.0"/>-->
  <!--<material>Gazebo/Red</material>-->
  <!--</gazebo>-->
  <!--<gazebo reference="motor_RR_holder">-->
  <!--<mu1 value="1.0"/>-->
  <!--<mu2 value="1.0"/>-->
  <!--<kp value="10000000.0"/>-->
  <!--<kd value="1.0"/>-->
  <!--<material>Gazebo/Red</material>-->
  <!--</gazebo>-->
  <!--<gazebo reference="FR_motor_holder">-->
  <!--<mu1 value="1.0"/>-->
  <!--<mu2 value="1.0"/>-->
  <!--<kp value="10000000.0"/>-->
  <!--<kd value="1.0"/>-->
  <!--<material>Gazebo/Red</material>-->
  <!--</gazebo>-->
  <!--<gazebo reference="FL_motor_holder">-->
  <!--<mu1 value="1.0"/>-->
  <!--<mu2 value="1.0"/>-->
  <!--<kp value="10000000.0"/>-->
  <!--<kd value="1.0"/>-->
  <!--<material>Gazebo/Red</material>-->
  <!--</gazebo>-->
  <!--<gazebo reference="RL_motor_holder">-->
  <!--<mu1 value="1.0"/>-->
  <!--<mu2 value="1.0"/>-->
  <!--<kp value="10000000.0"/>-->
  <!--<kd value="1.0"/>-->
  <!--<material>Gazebo/Red</material>-->
  <!--</gazebo>-->
  <!--<gazebo reference="RR_motor_holder">-->
  <!--<mu1 value="1.0"/>-->
  <!--<mu2 value="1.0"/>-->
  <!--<kp value="10000000.0"/>-->
  <!--<kd value="1.0"/>-->
  <!--<material>Gazebo/Red</material>-->
  <!--</gazebo>-->
  <!--&lt;!&ndash; ///////////////////////&ndash;&gt;-->
  <!--&lt;!&ndash;          Body          &ndash;&gt;-->
  <!--&lt;!&ndash; ///////////////////////&ndash;&gt;-->
  <!--<gazebo reference="body">-->
  <!--<mu1 value="1.0"/>-->
  <!--<mu2 value="1.0"/>-->
  <!--<kp value="10000000.0"/>-->
  <!--<kd value="1.0"/>-->
  <!--<material>Gazebo/White</material>-->
  <!--</gazebo>-->
  <!--<gazebo reference="back_cover">-->
  <!--<mu1 value="1.0"/>-->
  <!--<mu2 value="1.0"/>-->
  <!--<kp value="10000000.0"/>-->
  <!--<kd value="1.0"/>-->
  <!--<material>Gazebo/White</material>-->
  <!--</gazebo>-->
  <!--&lt;!&ndash; ///////////////////////&ndash;&gt;-->
  <!--&lt;!&ndash;          Head          &ndash;&gt;-->
  <!--&lt;!&ndash; ///////////////////////&ndash;&gt;-->
  <!--<gazebo reference="head">-->
  <!--<mu1 value="1.0"/>-->
  <!--<mu2 value="1.0"/>-->
  <!--<kp value="10000000.0"/>-->
  <!--<kd value="1.0"/>-->
  <!--<material>Gazebo/White</material>-->
  <!--</gazebo>-->
  <!--<gazebo reference="tray">-->
  <!--<mu1 value="1.0"/>-->
  <!--<mu2 value="1.0"/>-->
  <!--<kp value="10000000.0"/>-->
  <!--<kd value="1.0"/>-->
  <!--<material>Gazebo/White</material>-->
  <!--</gazebo>-->
  <!--<gazebo reference="monitor">-->
  <!--<mu1 value="1.0"/>-->
  <!--<mu2 value="1.0"/>-->
  <!--<kp value="10000000.0"/>-->
  <!--<kd value="1.0"/>-->
  <!--<material>Gazebo/White</material>-->
  <!--</gazebo>-->
  <!--THIS ONE IS BEING SKIPPED!!! (by parser)-->
  <!-- This is an wheel-level solution to possibly revisit at a future date. -->
  <!--<gazebo>-->
  <!--<rosparam param="/gazebo_ros_control/pid_gains">-->
  <!--wheel_motor_FL_joint:-->
  <!--p: 1-->
  <!--i: 0.1-->
  <!--d: 0-->
  <!--wheel_motor_FR_joint:-->
  <!--p: 1-->
  <!--i: 0.1-->
  <!--d: 0-->
  <!--wheel_motor_RL_joint:-->
  <!--p: 1-->
  <!--i: 0.1-->
  <!--d: 0-->
  <!--wheel_motor_RR_joint:-->
  <!--p: 1-->
  <!--i: 0.1-->
  <!--d: 0-->
  <!--</rosparam>-->
  <!--</gazebo>-->
  <!---->
  <!--ULTRASONIC-->
  <!--<xacro:ultrasonic_gazebo position="FRONT_TOP"/>-->
  <!--<xacro:ultrasonic_gazebo position="FRONT_BOTTOM"/>-->
  <!--<xacro:ultrasonic_gazebo position="FRONT_BOTTOM_LEFT"/>-->
  <!--<xacro:ultrasonic_gazebo position="FRONT_BOTTOM_RIGHT"/>-->
  <!--<xacro:ultrasonic_gazebo position="RIGHT_TOP"/>-->
  <!--<xacro:ultrasonic_gazebo position="RIGHT_BOTTOM"/>-->
  <!--<xacro:ultrasonic_gazebo position="RIGHT_BOTTOM_SIDE"/>-->
  <!--<xacro:ultrasonic_gazebo position="SIDE_TOP"/>-->
  <!--<xacro:ultrasonic_gazebo position="SIDE_BOTTOM"/>-->
  <!--<xacro:ultrasonic_gazebo position="SIDE_BOTTOM_LEFT"/>-->
  <!--<xacro:ultrasonic_gazebo position="LEFT_TOP"/>-->
  <!--<xacro:ultrasonic_gazebo position="LEFT_BOTTOM"/>-->
  <!---->
  <!---->
  <!---->
  <!--RANGE SENSOR-->
  <!--<xacro:range_sensor_gazebo position="FRONT_FIRST"/>-->
  <!--<xacro:range_sensor_gazebo position="FRONT_SECOND"/>-->
  <!--<xacro:range_sensor_gazebo position="FRONT_THIRD"/>-->
  <!--<xacro:range_sensor_gazebo position="RIGHT_FIRST"/>-->
  <!--<xacro:range_sensor_gazebo position="RIGHT_SECOND"/>-->
  <!--<xacro:range_sensor_gazebo position="RIGHT_THIRD"/>-->
  <!--<xacro:range_sensor_gazebo position="SIDE_FIRST"/>-->
  <!--<xacro:range_sensor_gazebo position="SIDE_SECOND"/>-->
  <!--<xacro:range_sensor_gazebo position="SIDE_THIRD"/>-->
  <!--<xacro:range_sensor_gazebo position="LEFT_FIRST"/>-->
  <!--<xacro:range_sensor_gazebo position="LEFT_SECOND"/>-->
  <!--<xacro:range_sensor_gazebo position="LEFT_THIRD"/>-->
  <!---->
  <!---->
</robot>
